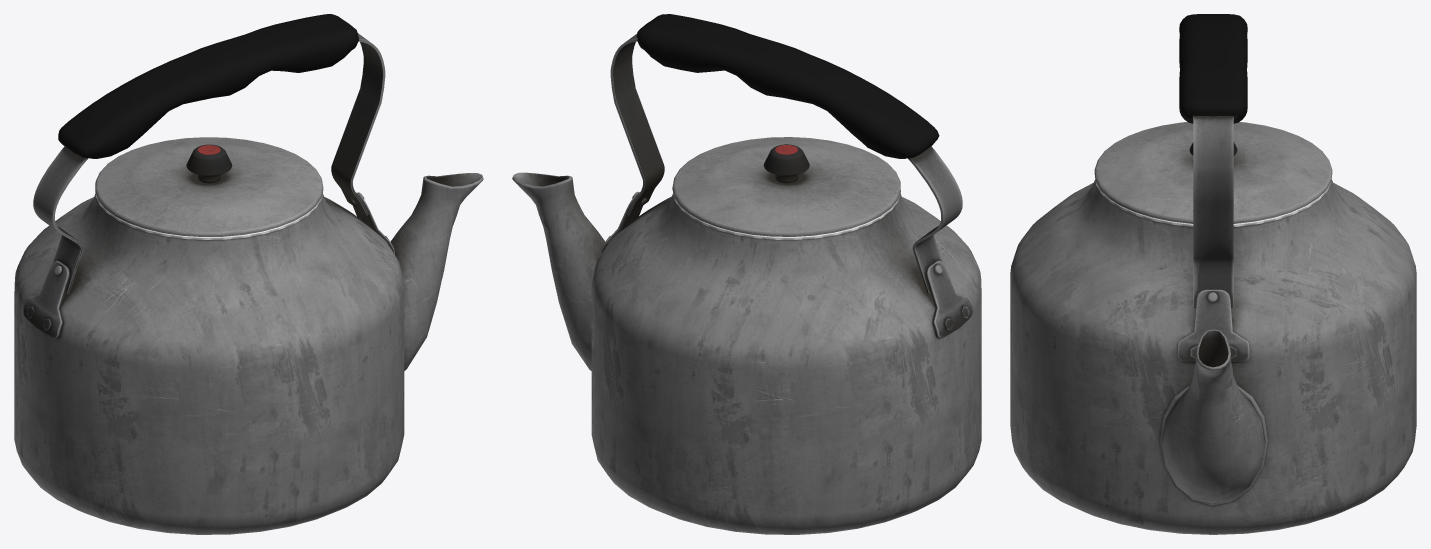
The model's file is Kettle.fbx.
The picture shows the model from 3 angles, left to right: view 1: azimuth 30°, elevation 25°; view 2: azimuth 150°, elevation 25°; view 3: azimuth 270°, elevation 25°; orthographic projection. The views are drawn at different scales.
Visible parts, largest first — view 1: Kettle, Handel, Dorr; view 2: Kettle, Handel, Dorr; view 3: Kettle, Dorr, Handel.
Part boxes in pixels (bbox=[...]): Kettle: bbox=[14, 173, 483, 534]; Handel: bbox=[33, 14, 385, 293]; Dorr: bbox=[95, 137, 323, 236]; Kettle: bbox=[512, 172, 981, 534]; Handel: bbox=[610, 14, 962, 293]; Dorr: bbox=[672, 137, 900, 236]; Kettle: bbox=[1010, 179, 1416, 534]; Dorr: bbox=[1094, 122, 1332, 223]; Handel: bbox=[1179, 14, 1247, 307].
Bounding box in the file's own units: 34.61 × 30.54 × 26.23.
